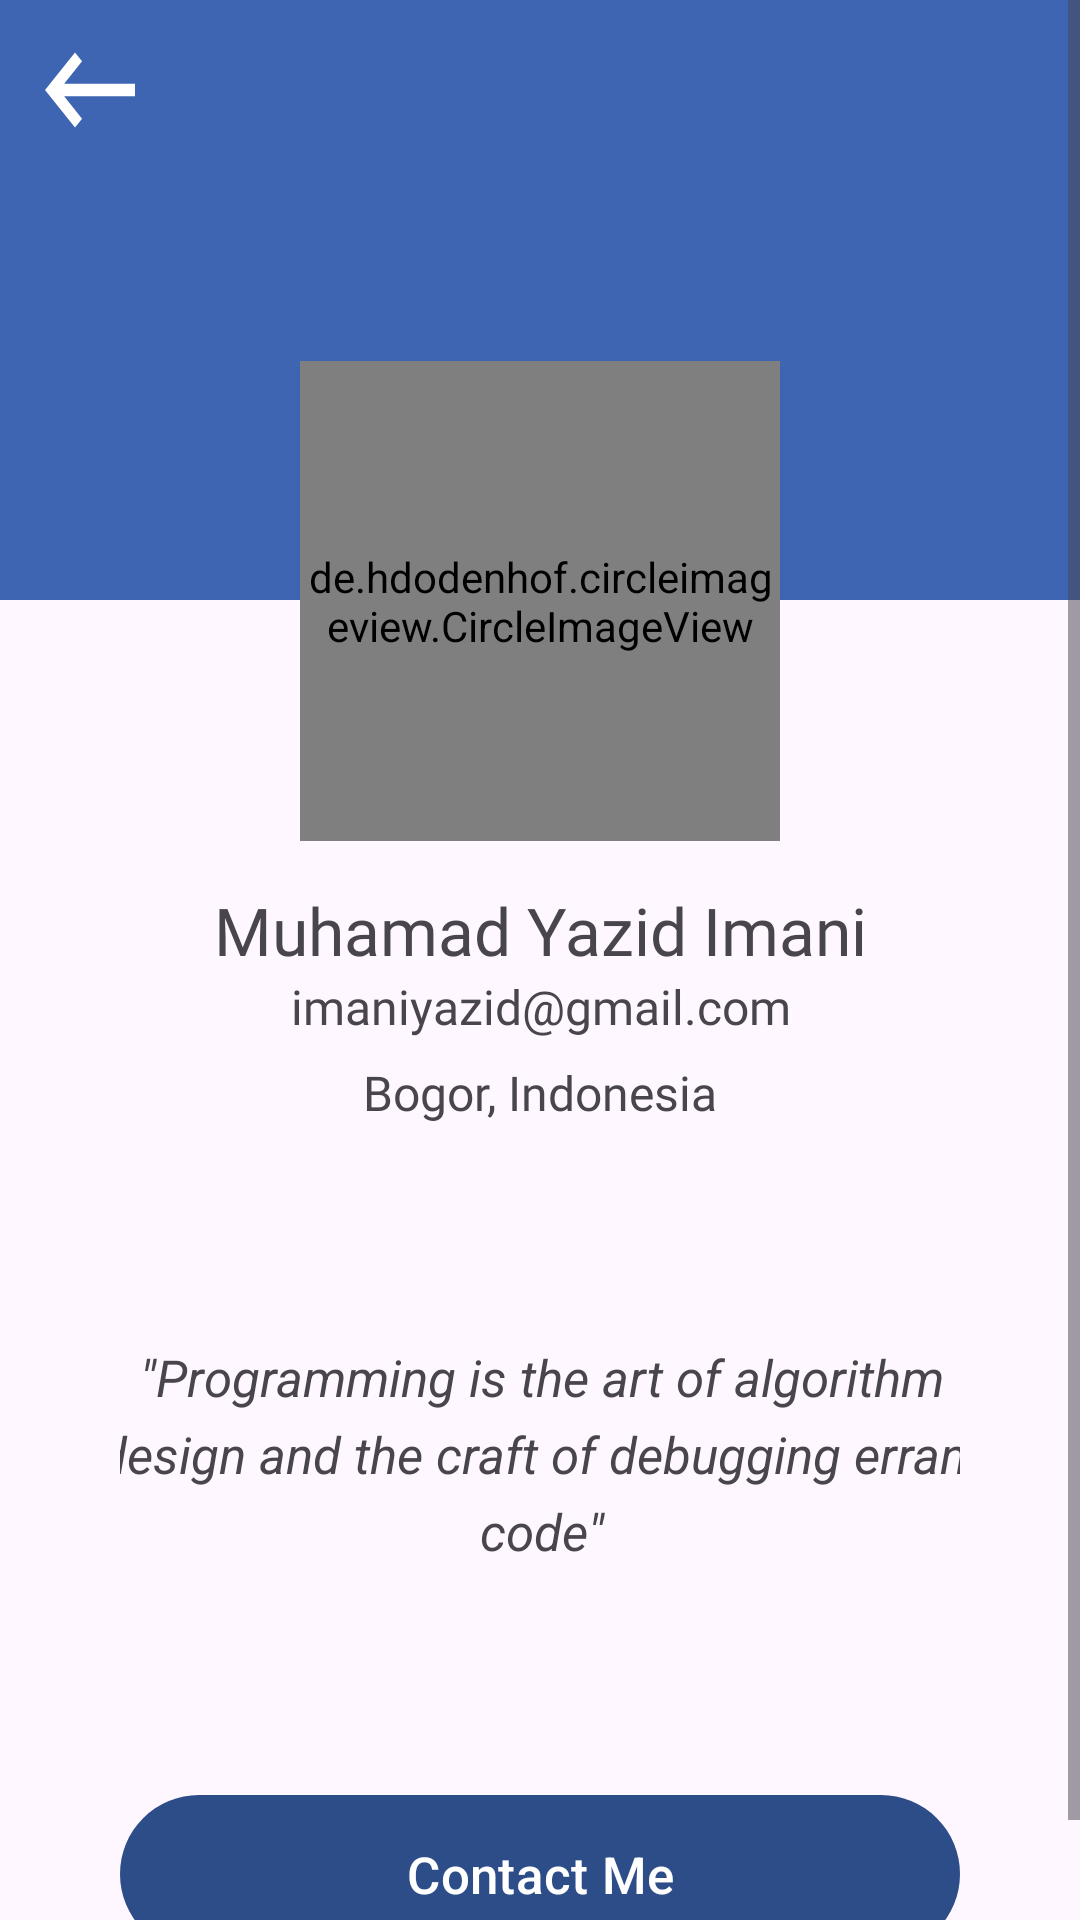

Icons on this 1080w x 1920h Android screen, each with the point to tap as (x=x, y=y):
back: (x=90, y=90)
